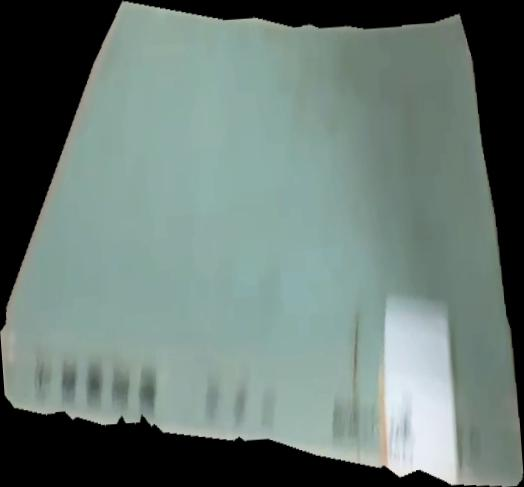flat: (1, 1, 524, 487)
